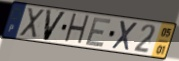2: (132, 24, 156, 54)
E: (83, 17, 113, 49)
H: (62, 13, 91, 47)
V: (42, 8, 68, 42)
X: (110, 19, 139, 53), (18, 7, 46, 40)
